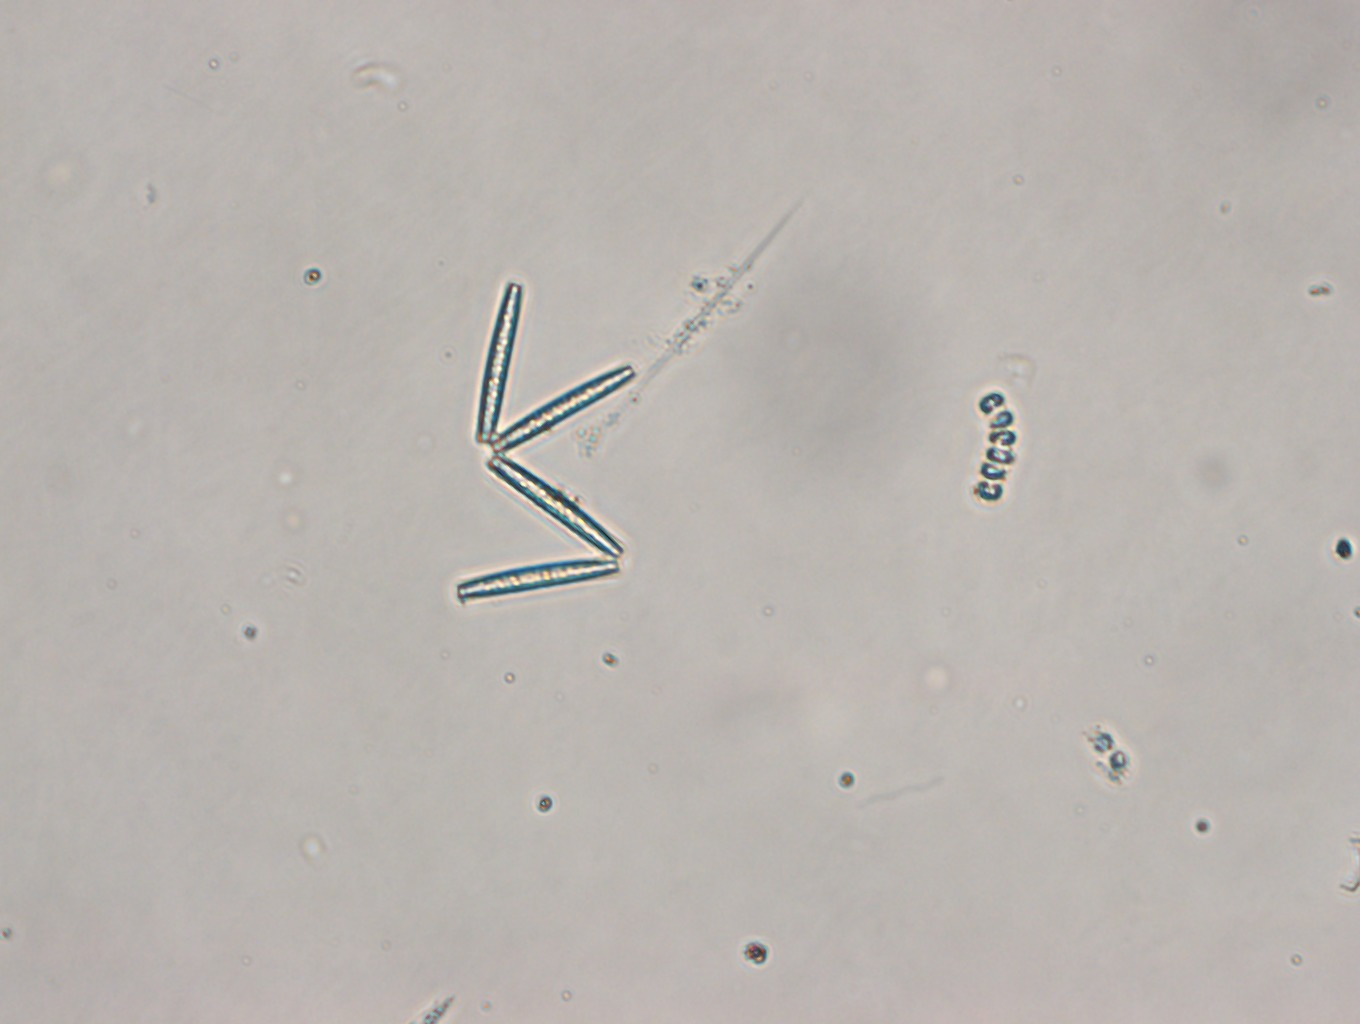skeletonema: (973, 389, 1018, 504)
thalassionema nitzschioides: (452, 281, 634, 607)
